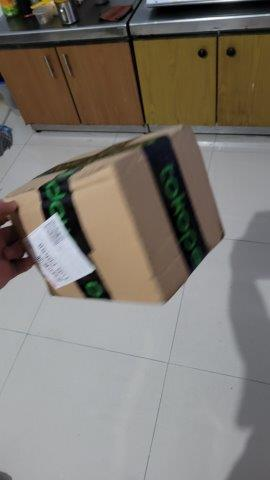kardus: (11, 123, 226, 305)
